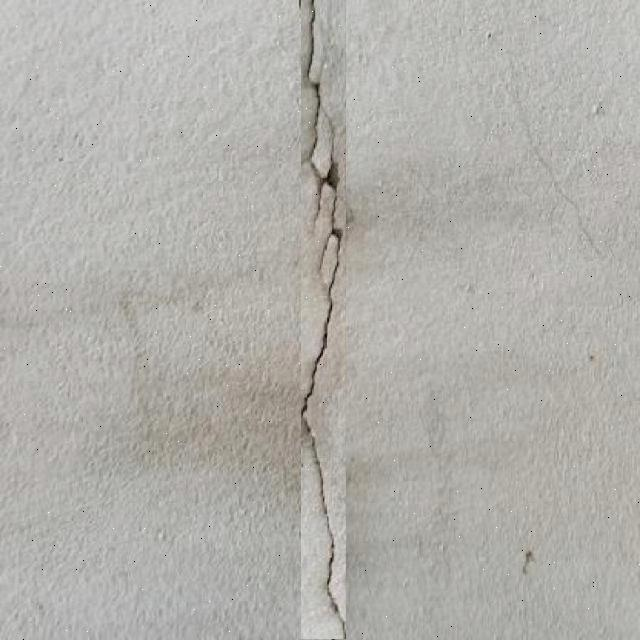crack: (327, 4, 640, 637), (4, 279, 304, 469), (471, 37, 623, 282), (293, 0, 351, 639), (63, 280, 280, 322), (295, 0, 338, 209), (298, 4, 318, 94)
